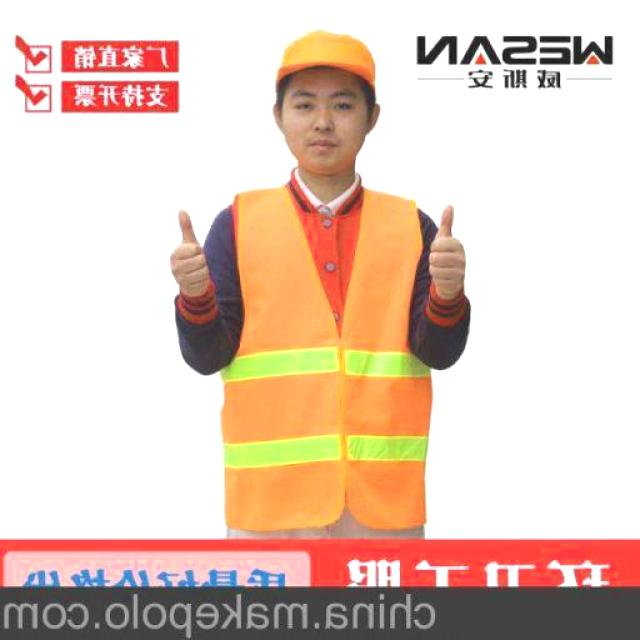face_nomask: (284, 84, 365, 162)
hand_noglove: (419, 200, 472, 302), (164, 210, 216, 304)
head_nohelmet: (263, 23, 389, 91)
person: (159, 25, 477, 537)
vest: (215, 176, 439, 533)
